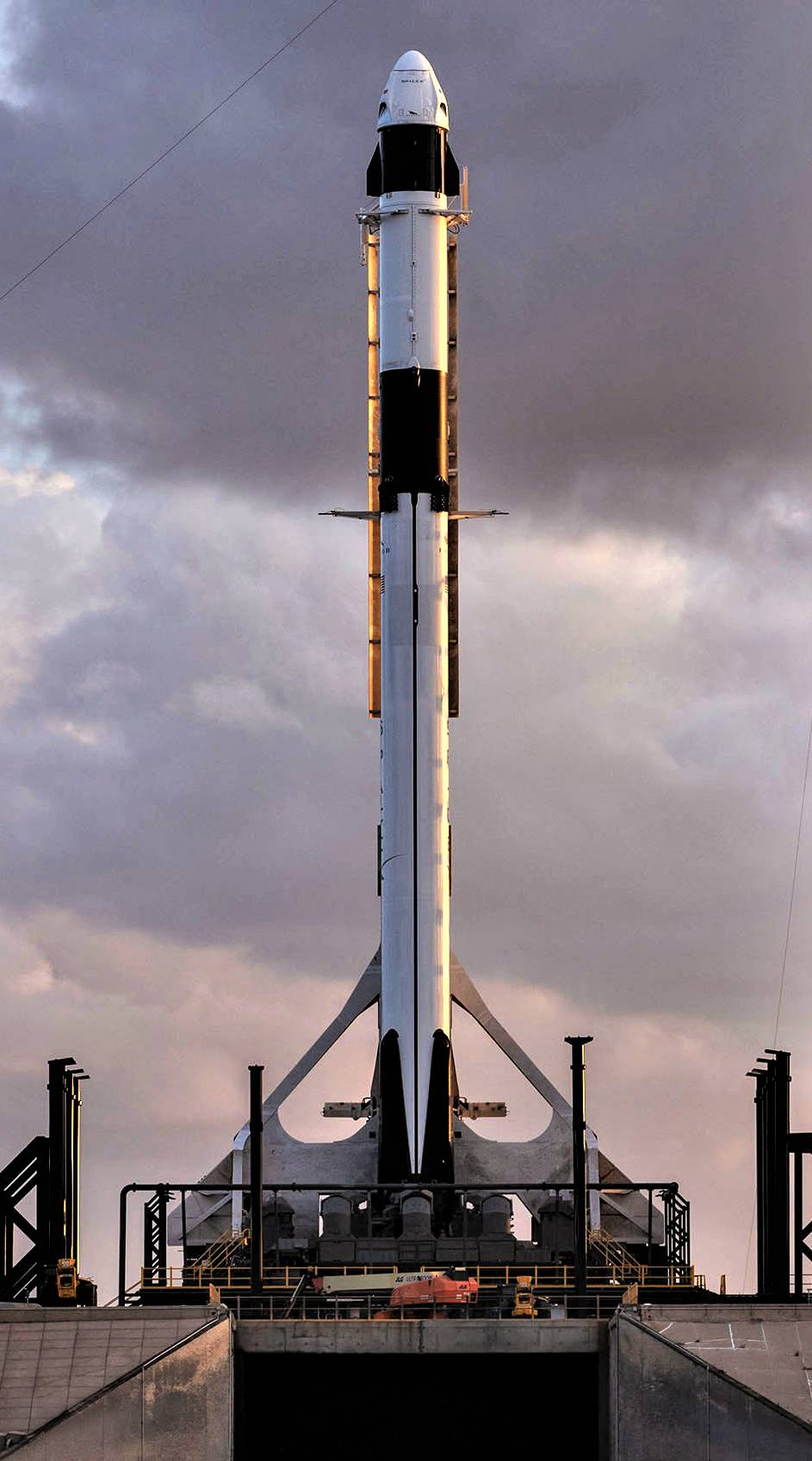falcon: (335, 32, 531, 1213)
